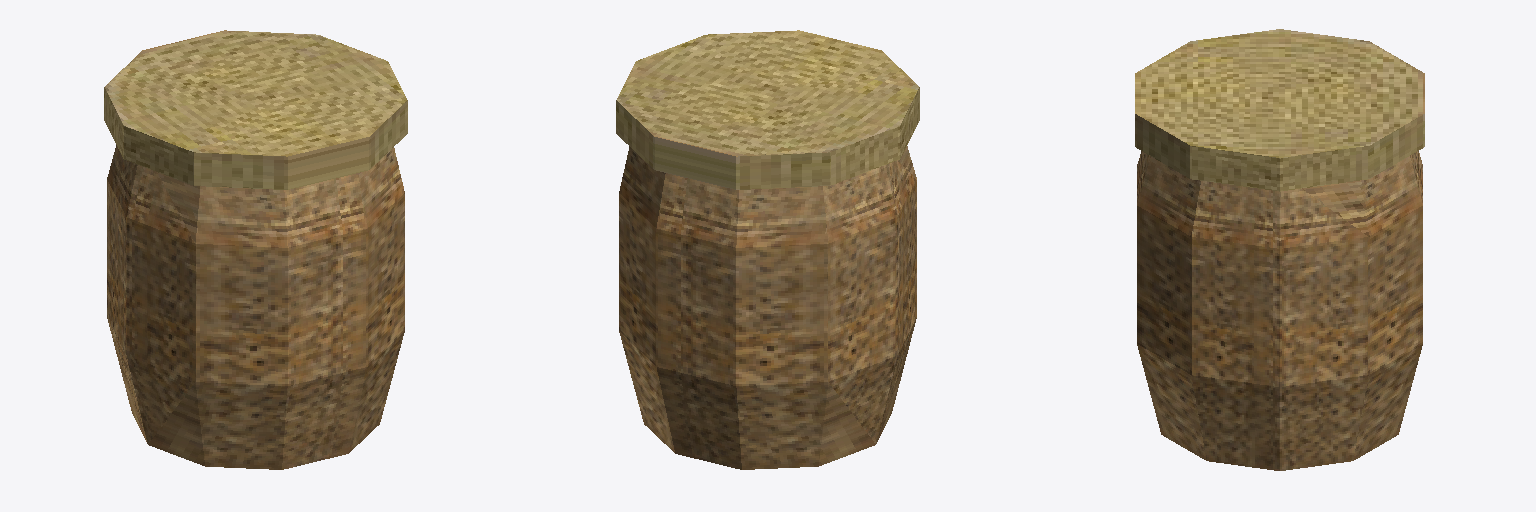
3 views of the same model, side by side, from view 1: azimuth 30°, elevation 25°; view 2: azimuth 150°, elevation 25°; view 3: azimuth 270°, elevation 25° (orthographic).
Visible parts, largest first — view 1: basket3; view 2: basket3; view 3: basket3.
Boxes of the visible parts, box(x1,y1,x2,y2) form: basket3: box(104, 30, 407, 469); basket3: box(616, 30, 919, 469); basket3: box(1135, 29, 1424, 470).
Bounding box in the file's own units: 33 × 38.75 × 31.38.
Materials: 1 (1 with a texture image).